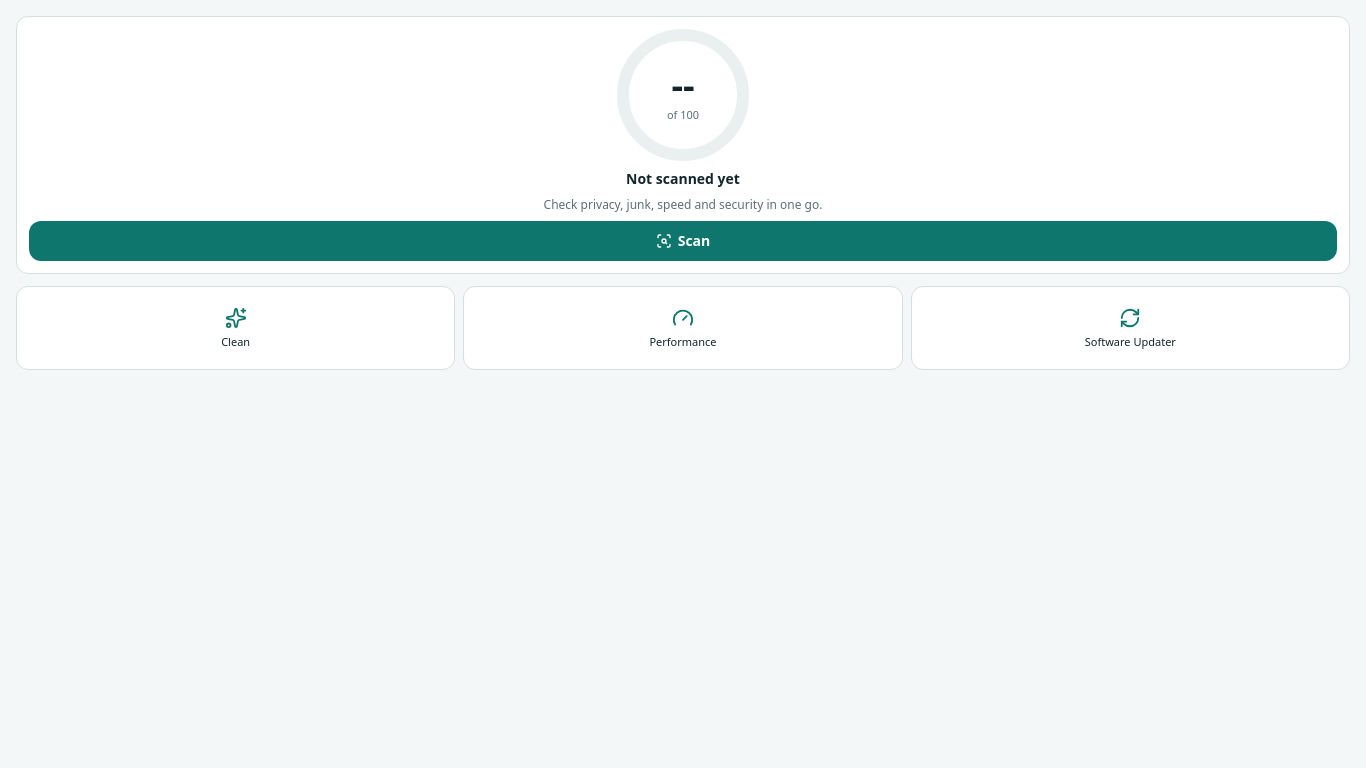
Home: results › shows the score, the status line and the four categories
This screenshot has width=1366, height=768.
Click the button with test id "btn-scan". click: (683, 241)
box: [29,221,1337,261]
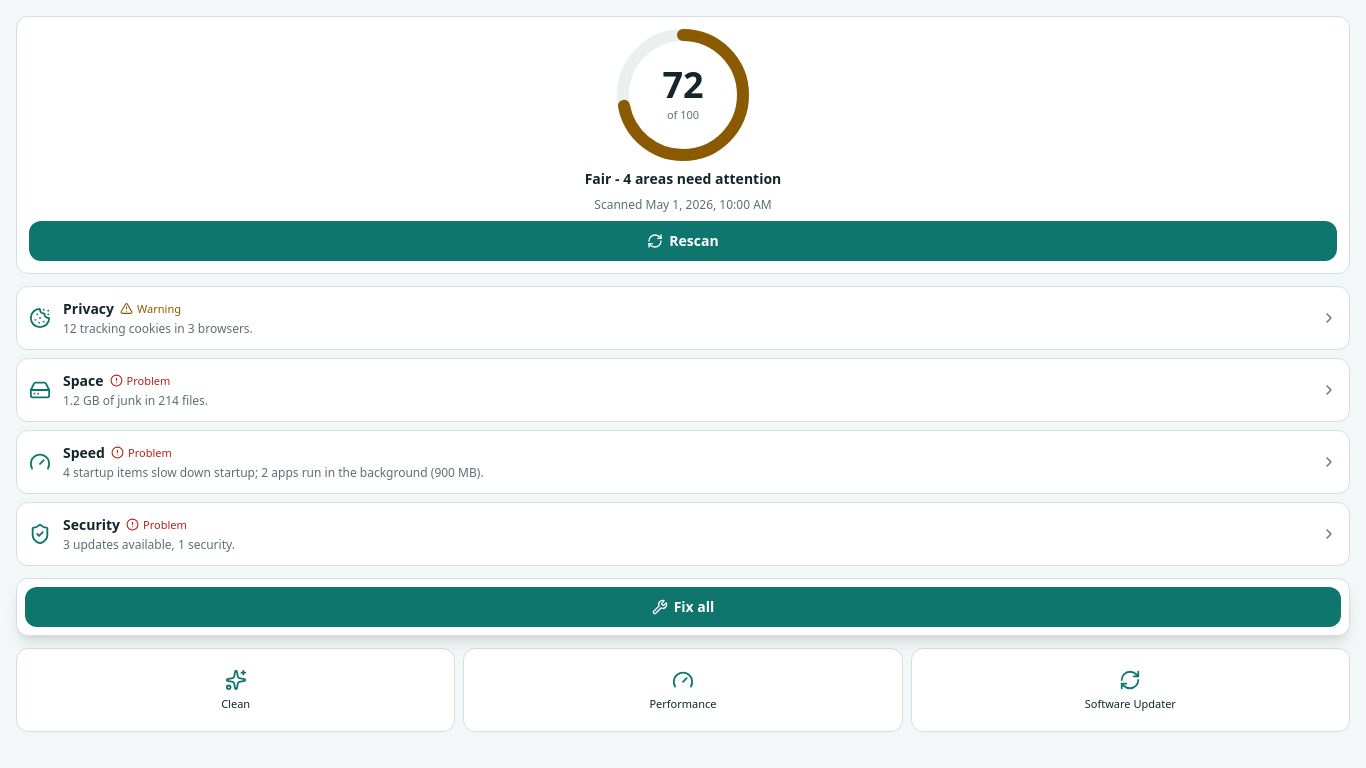
Now the button with test id "cat-privacy" is shown, box [16,286,1350,350]
Now the text with test id "health-status" no longer shows "Not scanned", box [585,169,781,189]
Now the picture named "Health score 72 of 100" is shown, box [617,29,749,161]
